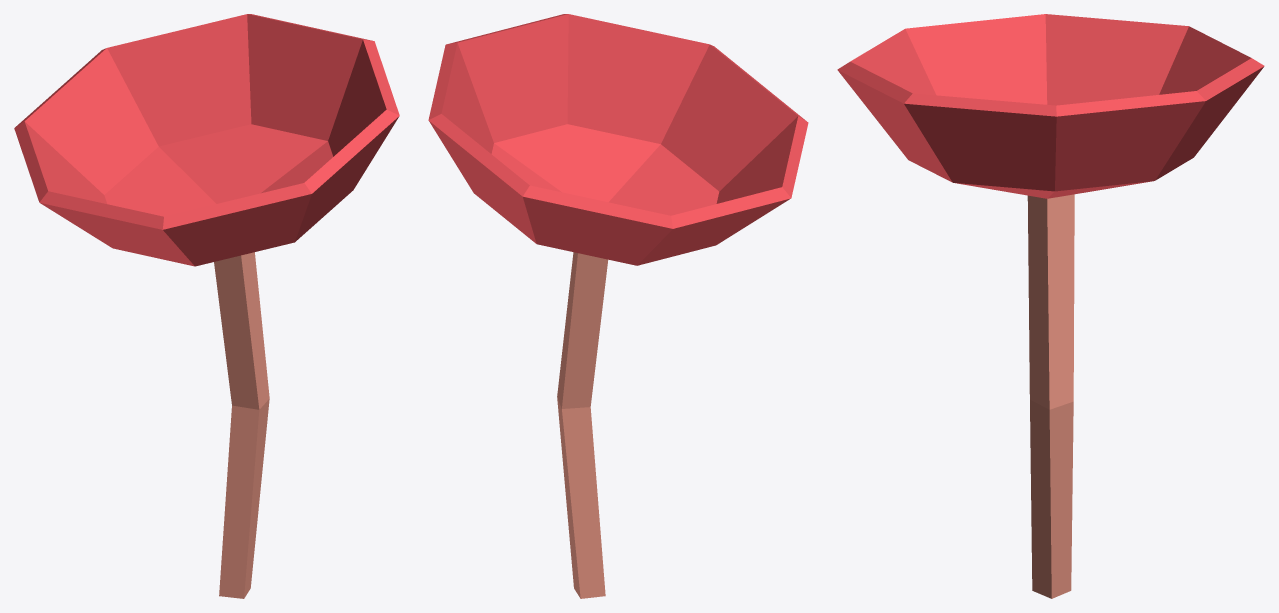
File: Mushroom_d_02.fbx
3 views of the same model, side by side, from view 1: azimuth 30°, elevation 25°; view 2: azimuth 150°, elevation 25°; view 3: azimuth 270°, elevation 25° (orthographic). The views are drawn at different scales.
Visible parts, largest first — view 1: Mushroom_d_02; view 2: Mushroom_d_02; view 3: Mushroom_d_02.
Part boxes in pixels (x1,y1,x2,y2): Mushroom_d_02: (14,14,399,598); Mushroom_d_02: (428,14,808,598); Mushroom_d_02: (837,14,1264,598).
Bounding box in the file's own units: 20.61 × 30.04 × 21.06.
